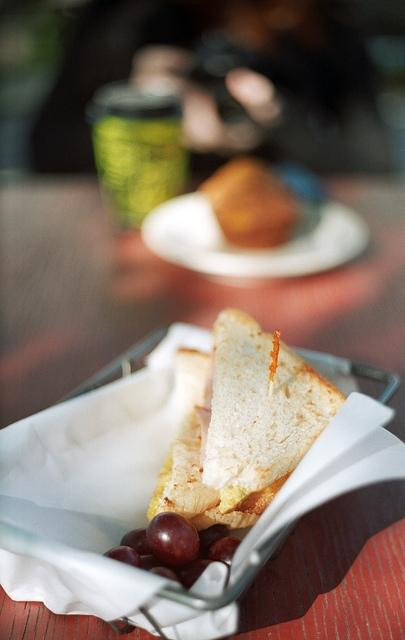grape: (146, 512, 200, 566), (196, 524, 231, 559), (204, 536, 242, 568), (178, 558, 214, 590), (102, 545, 142, 569), (120, 528, 154, 556), (140, 554, 172, 571), (148, 567, 181, 583)
